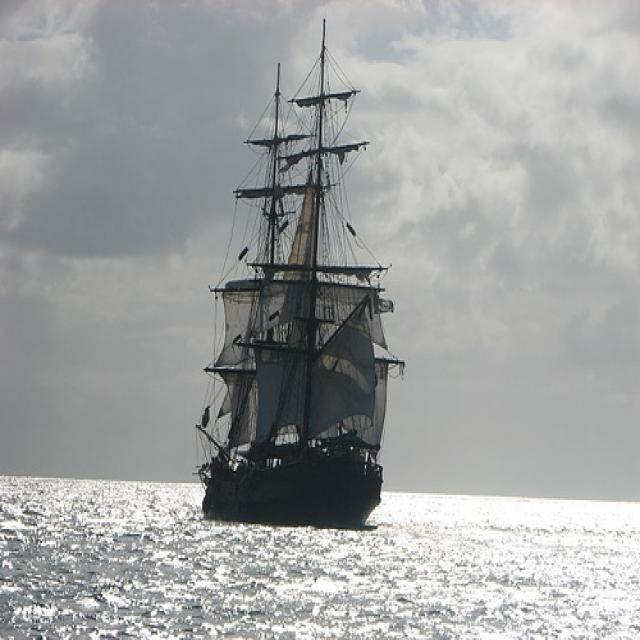Ship: (197, 30, 394, 533)
